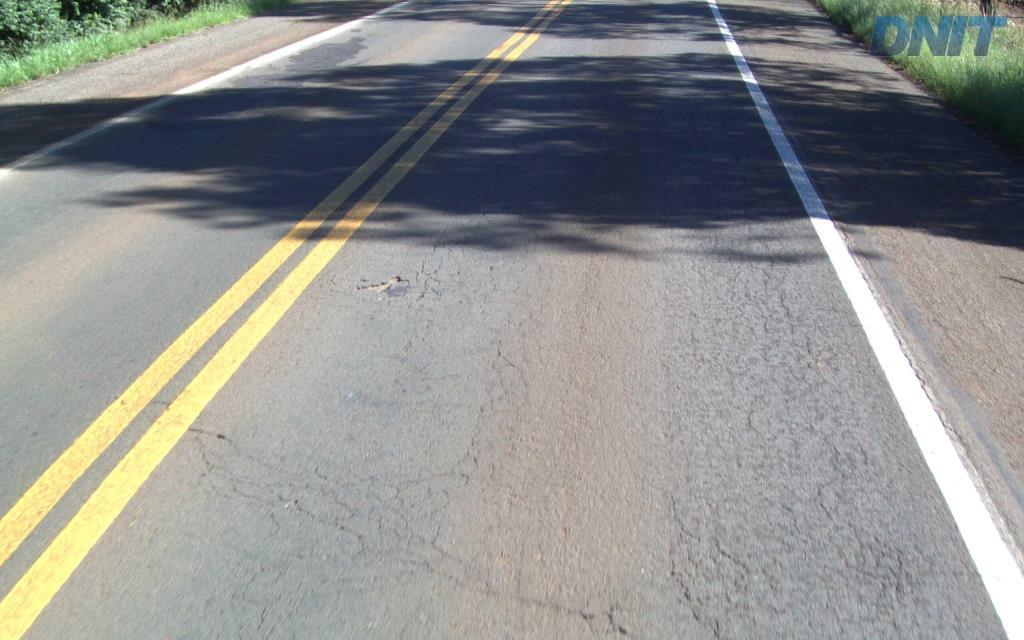pothole: (351, 272, 403, 294)
